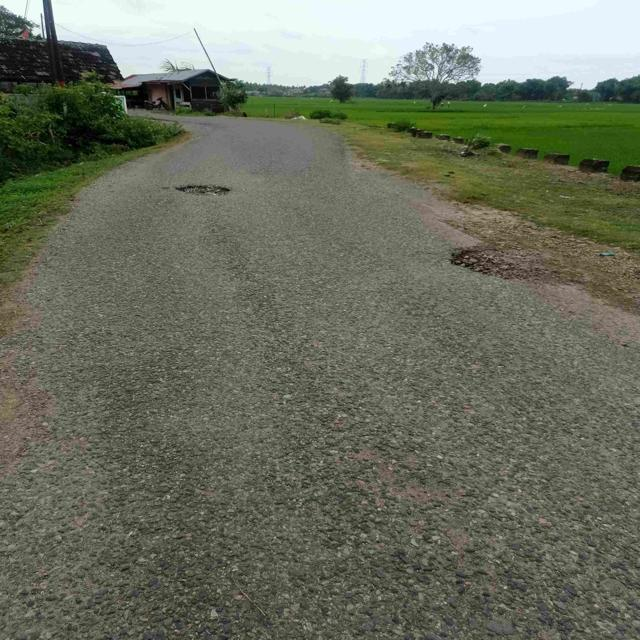Lubang: (169, 175, 245, 202)
Pinggir: (435, 229, 603, 301)
